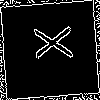X: (25, 24, 73, 62)
